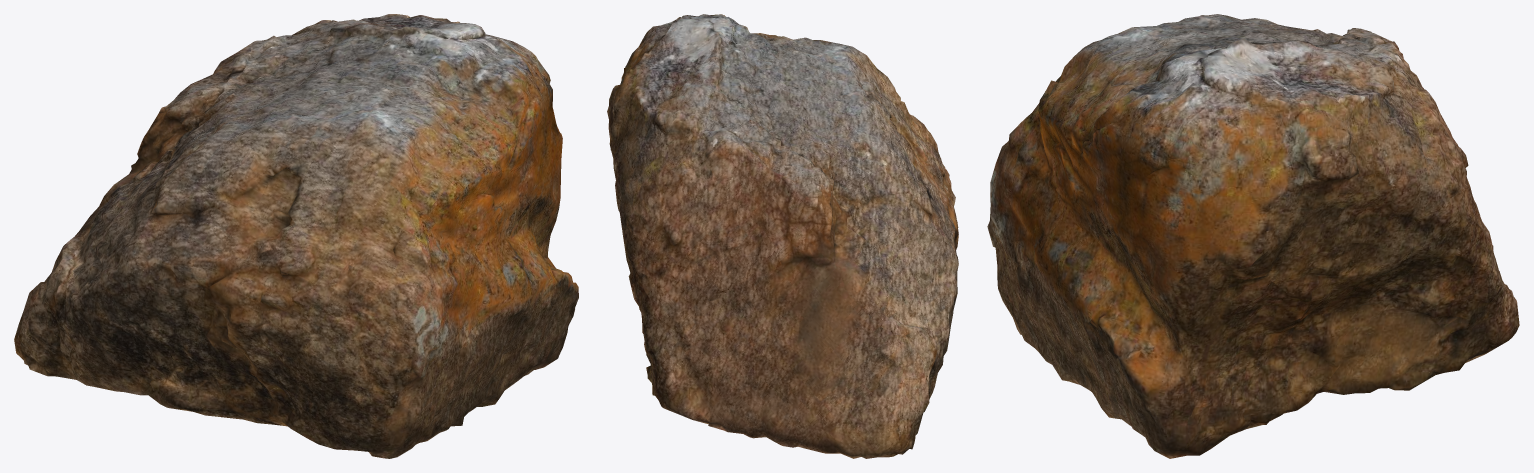
The model's file is namaqualand_boulder_04.gltf.
The picture shows the model from 3 angles, left to right: view 1: azimuth 30°, elevation 25°; view 2: azimuth 150°, elevation 25°; view 3: azimuth 270°, elevation 25°; orthographic projection. The views are drawn at different scales.
Parts seen in each view (by area): view 1: boulder_04; view 2: boulder_04; view 3: boulder_04.
Part boxes in pixels (x1,y1,x2,y2): boulder_04: (14, 14, 578, 458); boulder_04: (607, 14, 958, 458); boulder_04: (987, 14, 1519, 458).
Size of the model in its own units: 2.52 by 1.9 by 2.49.
Materials: 1 (1 with a texture image).
